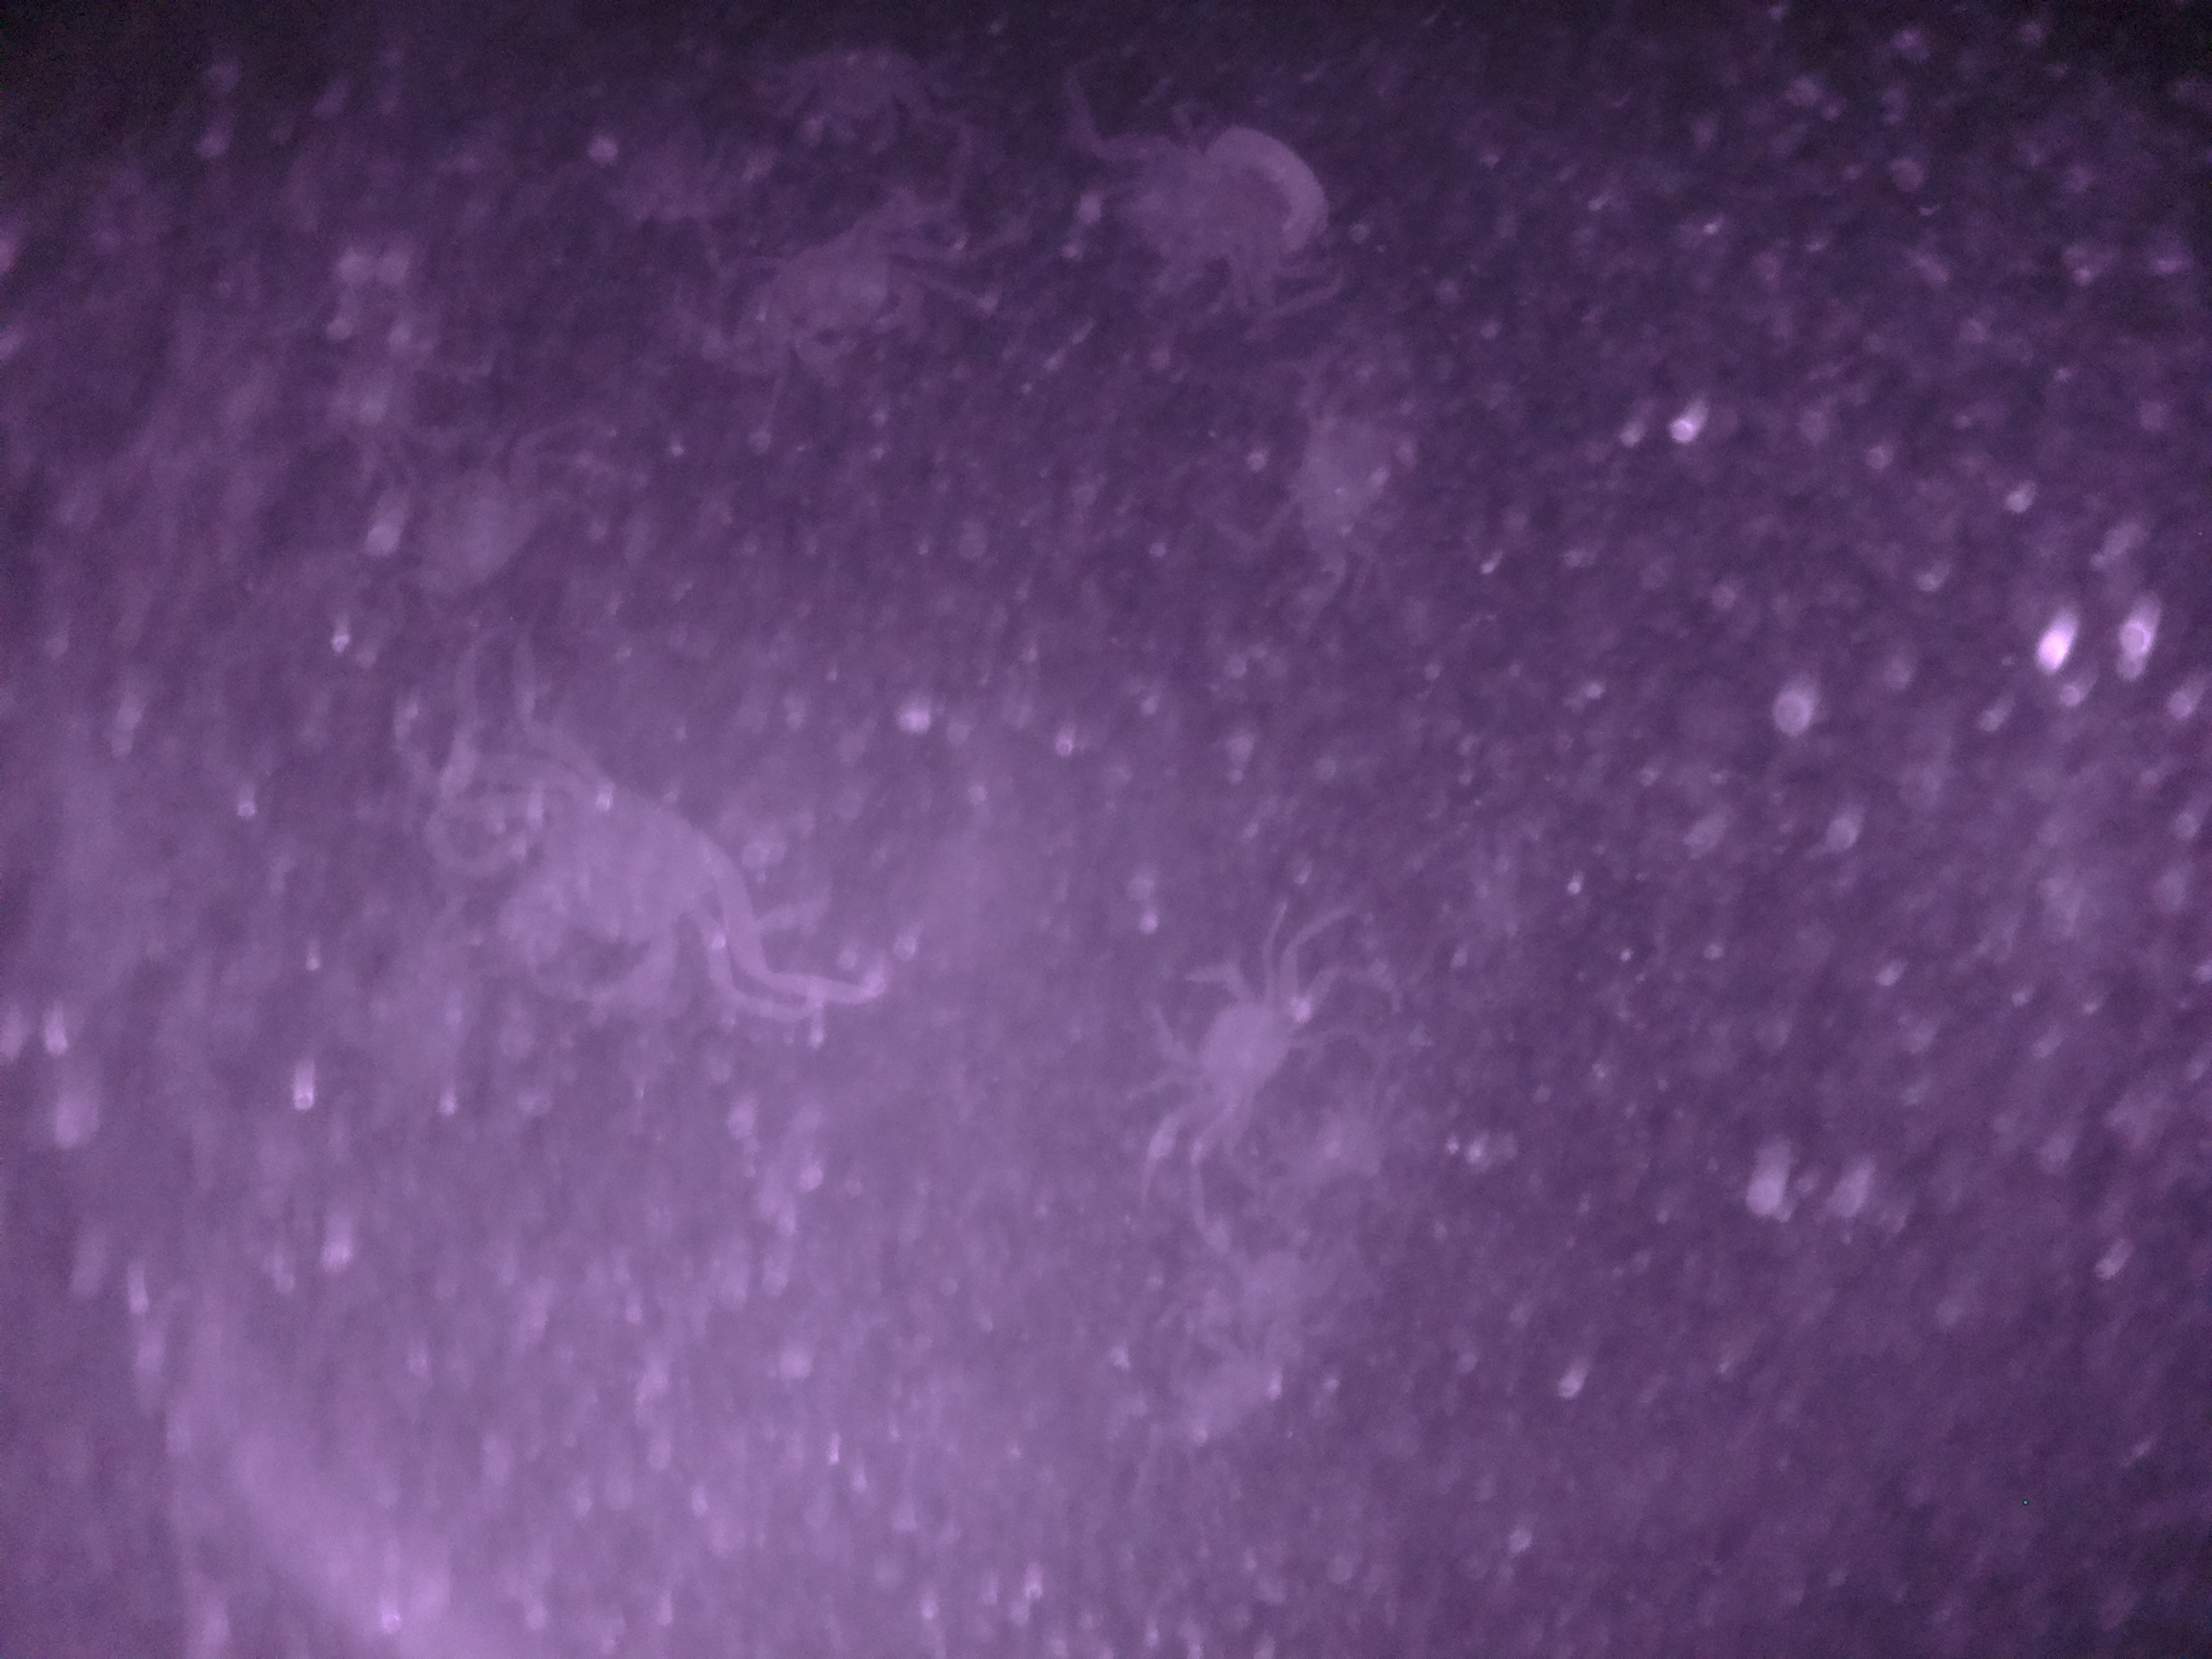Crab: (1132, 946, 1312, 1140)
